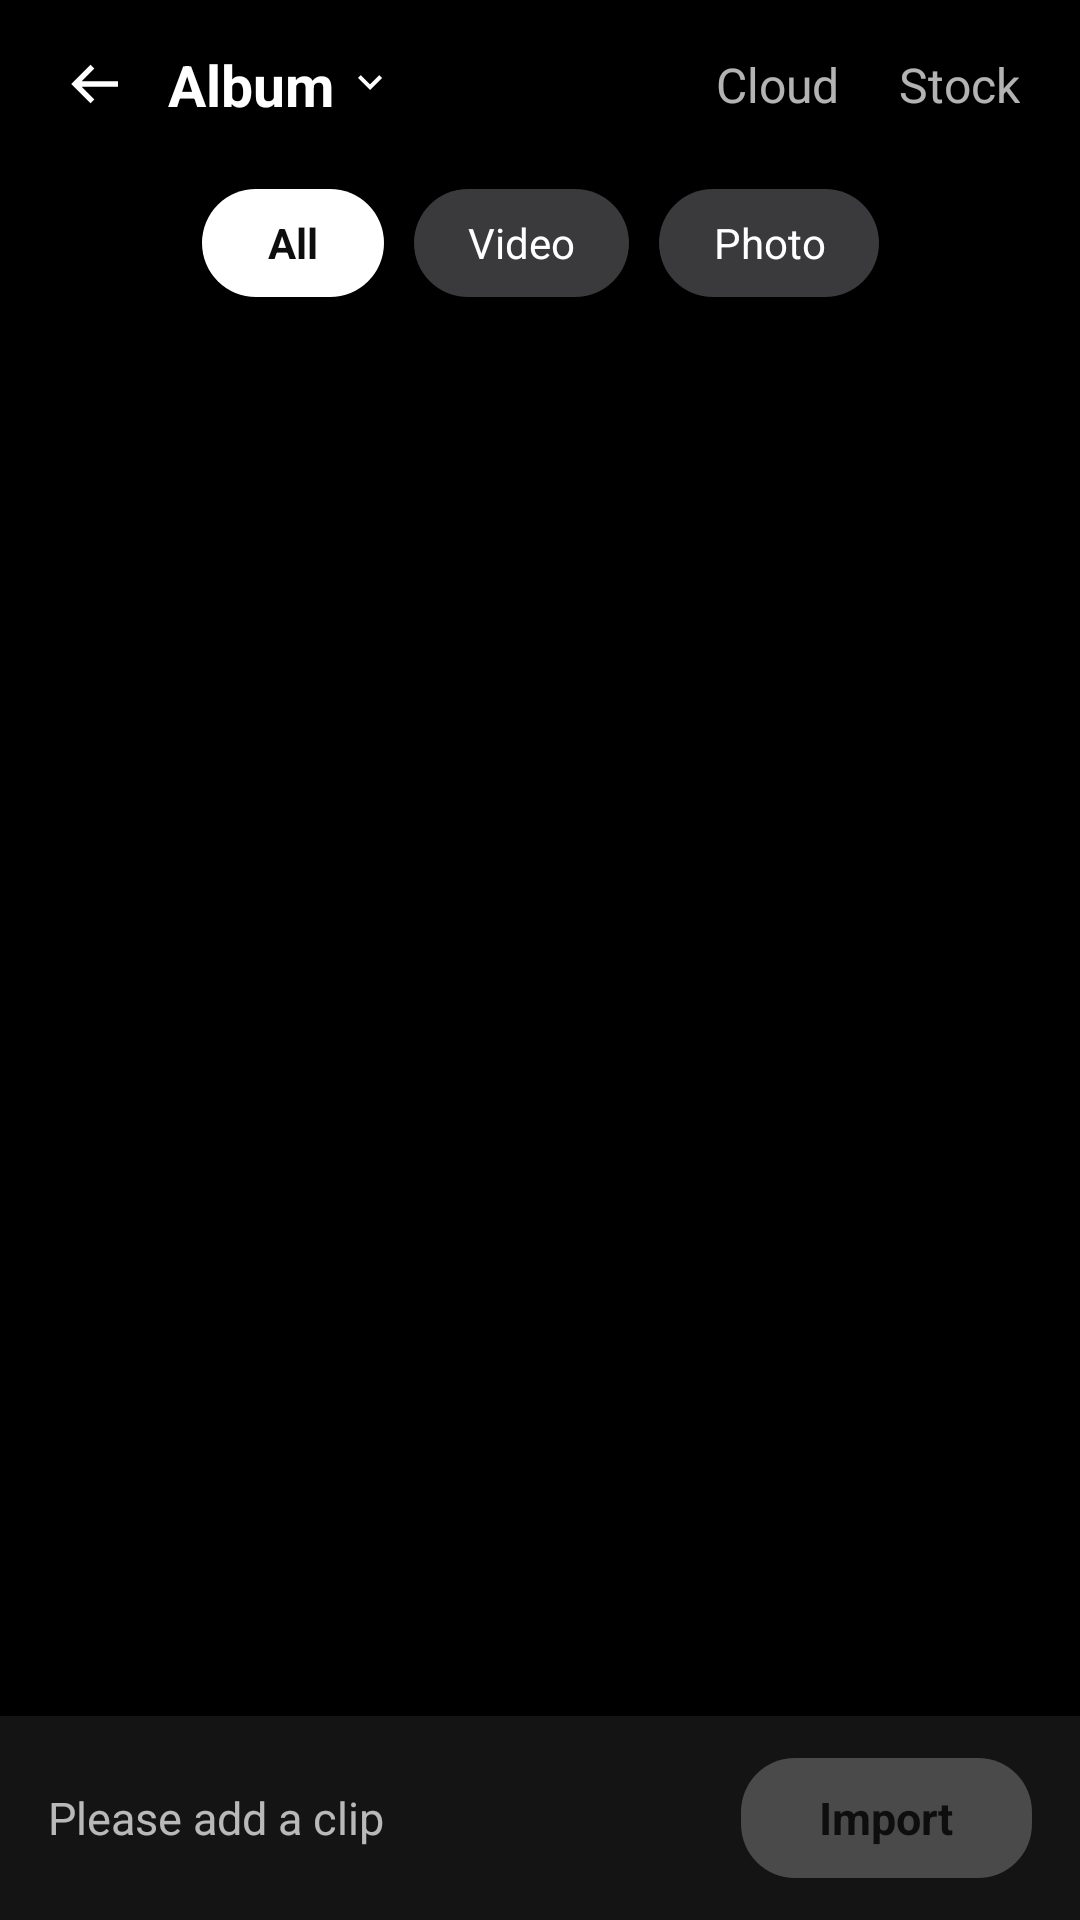

Screen size 1080px x 1920px. Icon name, then its box in pixels as box(x1, y1, x2, y2):
Back: box(71, 65, 118, 103)
dropdown: box(358, 75, 382, 90)
